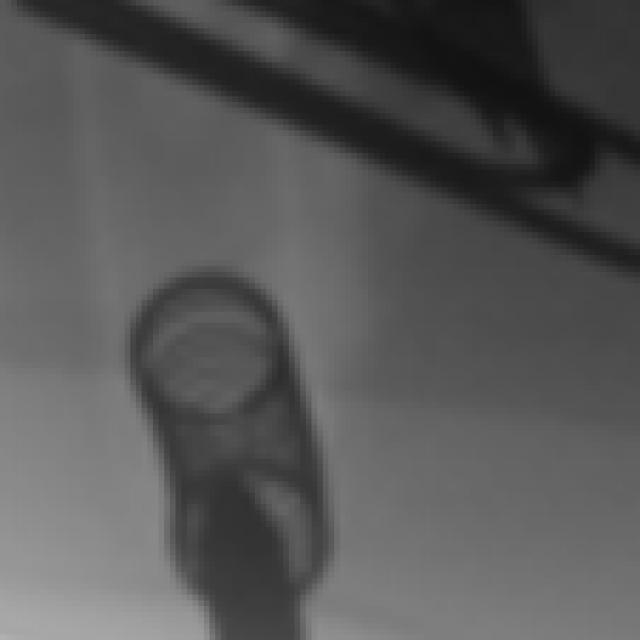GUN: (199, 452, 309, 640)
